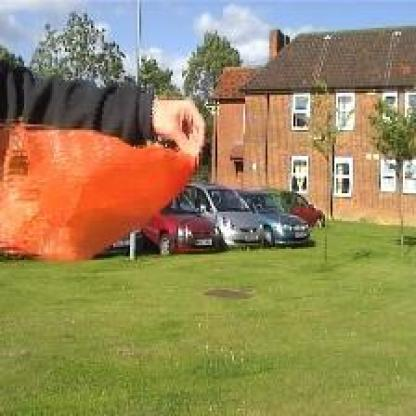other: (3, 120, 184, 262)
